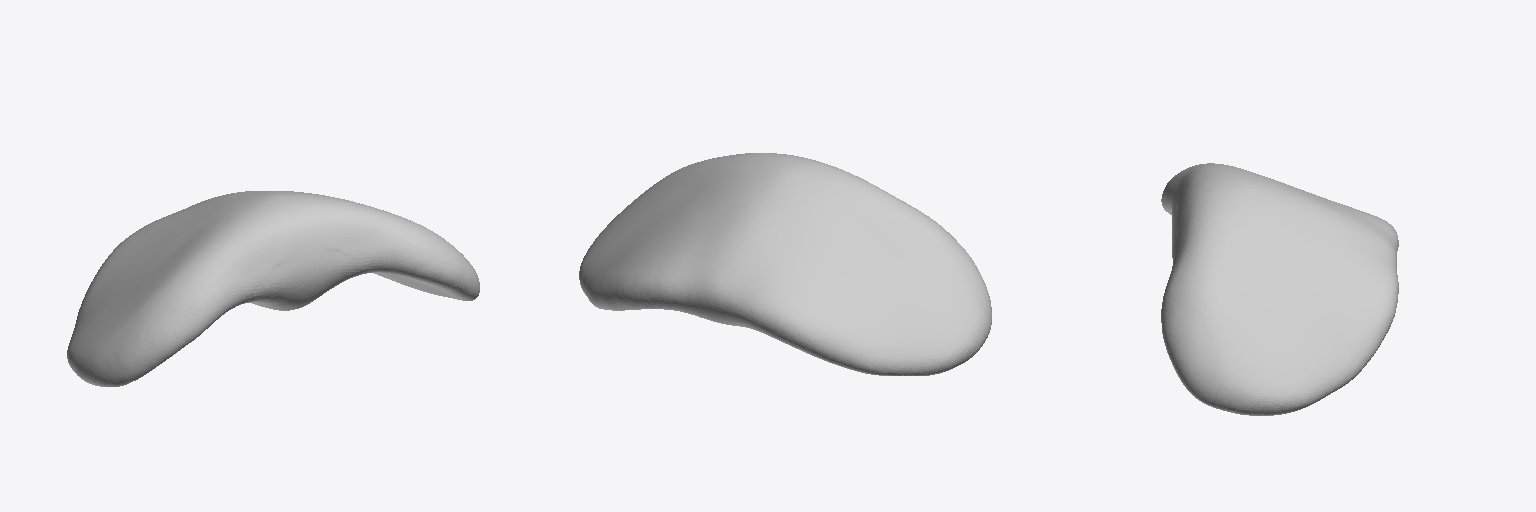
File: shell1.obj
3 views of the same model, side by side, from view 1: azimuth 30°, elevation 25°; view 2: azimuth 150°, elevation 25°; view 3: azimuth 270°, elevation 25° (orthographic).
Visible parts, largest first — view 1: Group6084; view 2: Group6084; view 3: Group6084.
Part boxes in pixels (x1,y1,x2,y2): Group6084: (67,191,479,386); Group6084: (579,153,991,375); Group6084: (1161,163,1398,415).
Size of the model in its own units: 0.6366 by 0.2325 by 0.3398.